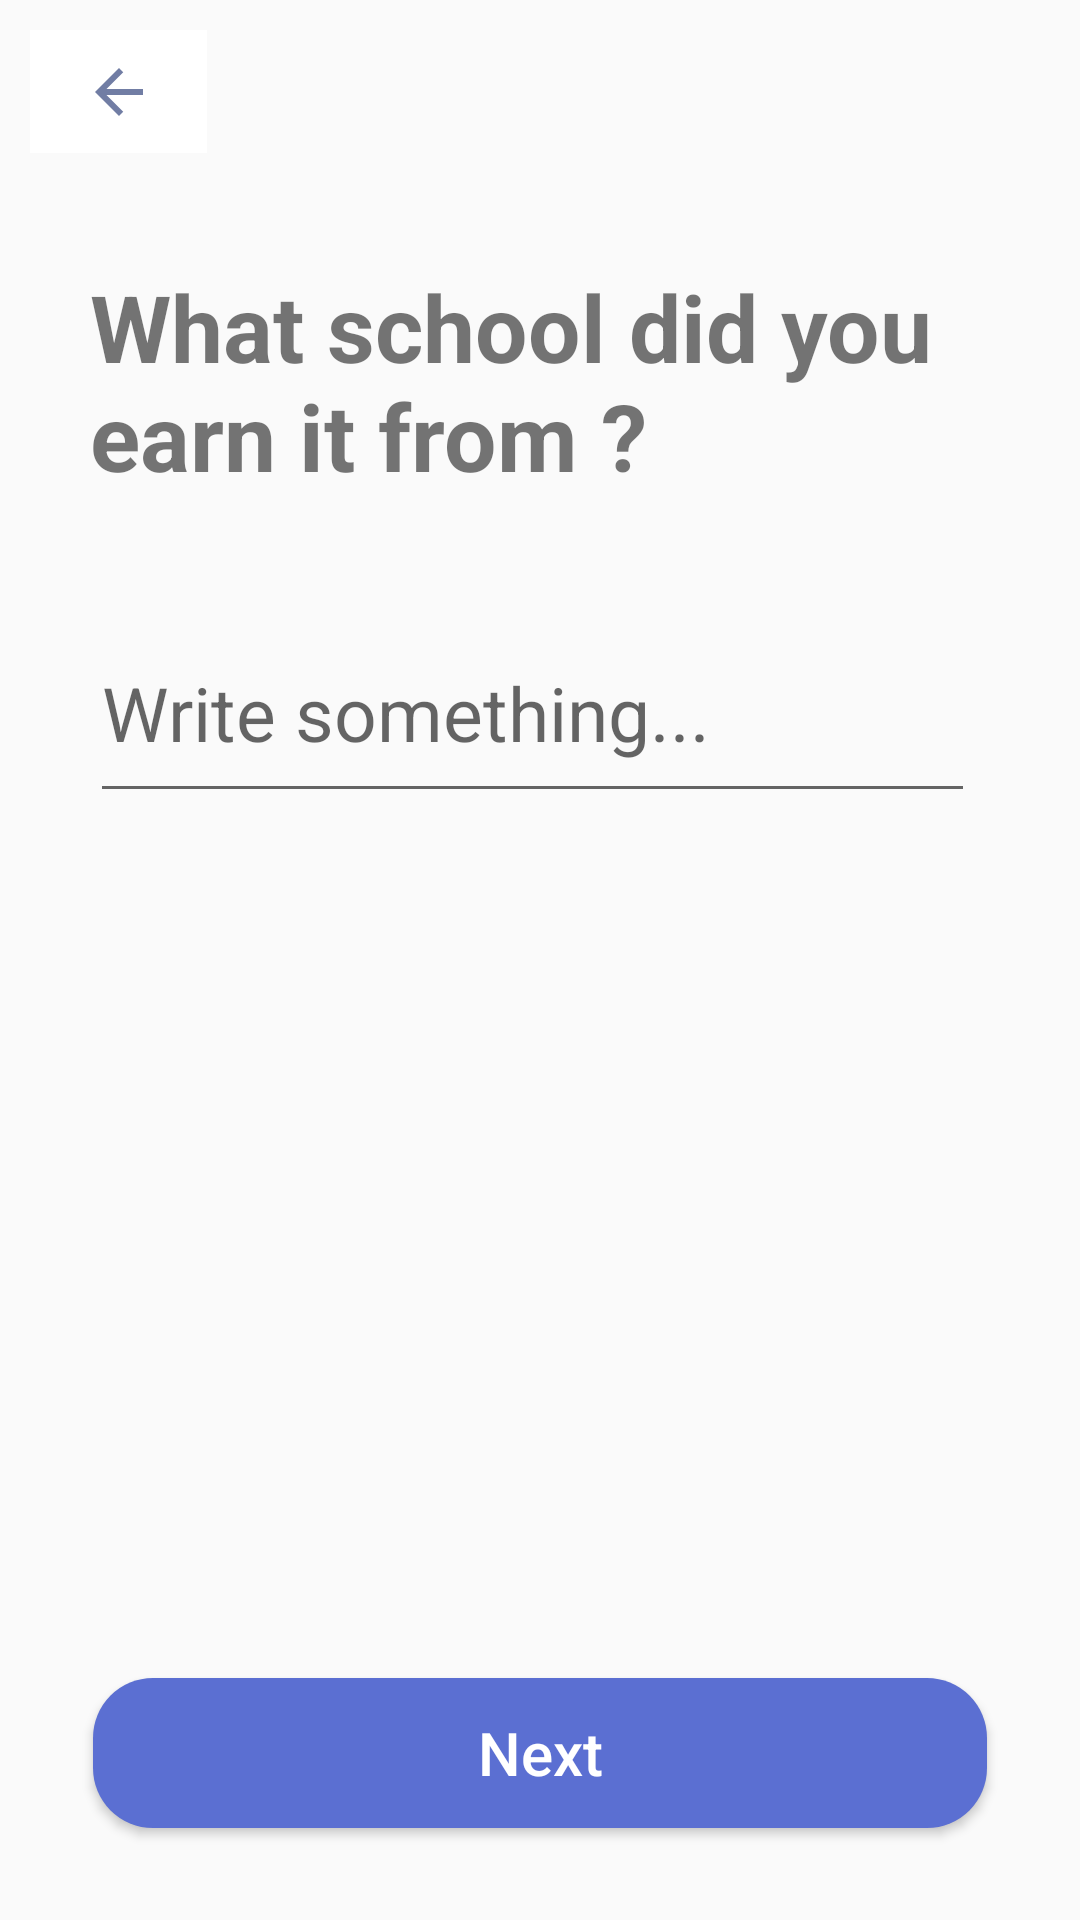

Screen size 1080 × 1920. Icon name, then its box in pixels as (x1, y1, x2, y2):
arrow back: (95, 68, 143, 116)
